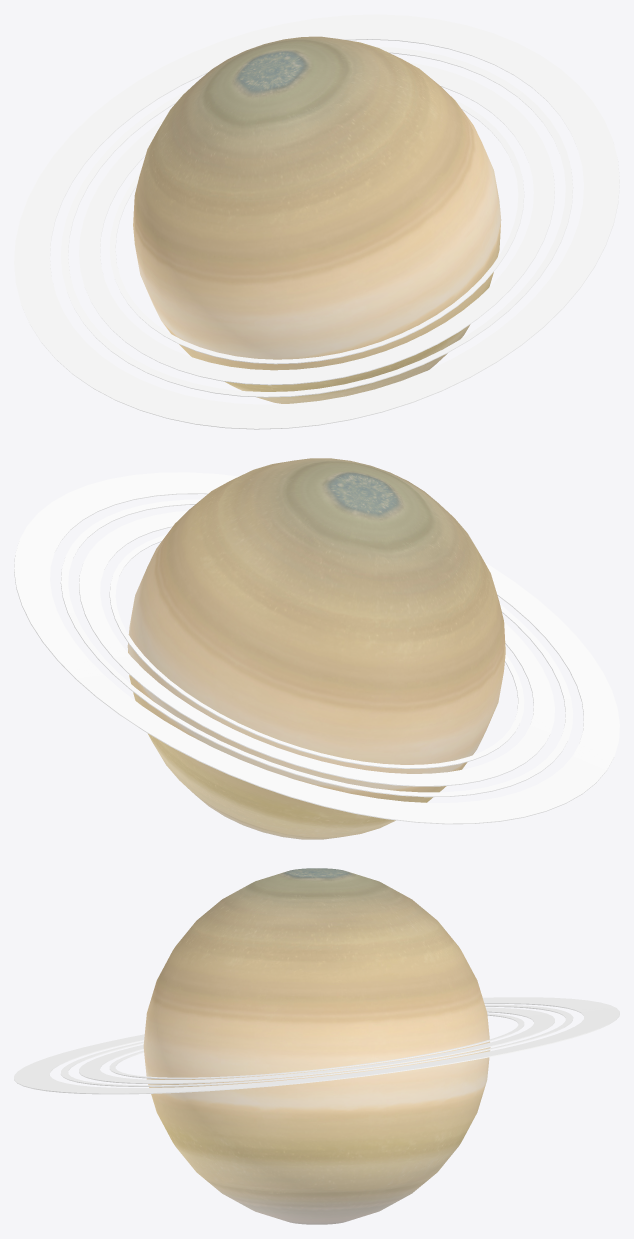
Rendered from saturno.glb.
The picture shows the model from 3 angles, top to bottom: view 1: azimuth 30°, elevation 25°; view 2: azimuth 150°, elevation 25°; view 3: azimuth 270°, elevation 25°; orthographic projection. The views are drawn at different scales.
Parts seen in each view (by area): view 1: Círculo.002; view 2: Círculo.002; view 3: Círculo.002.
Part boxes in pixels (<box>): Círculo.002: <box>14,14,619,429</box>; Círculo.002: <box>14,458,619,839</box>; Círculo.002: <box>14,868,619,1224</box>.
Size of the model in its own units: 7.29 by 4.73 by 8.08.
Materials: 4 (1 with a texture image).
